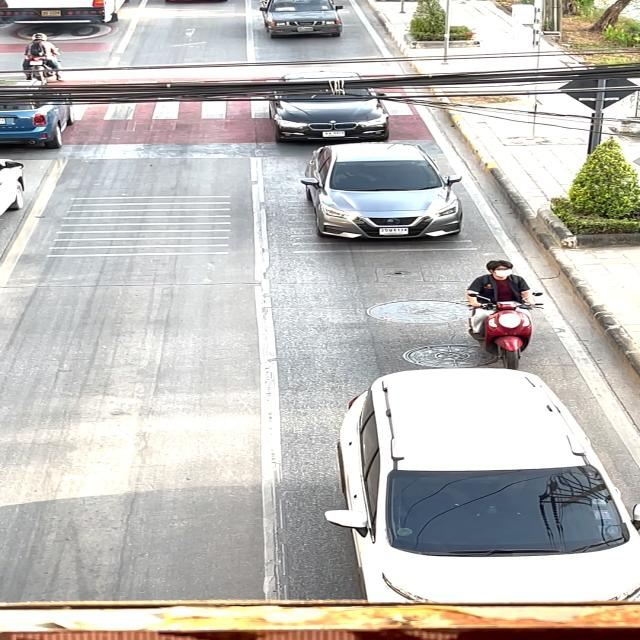car: (316, 368, 640, 602), (288, 135, 473, 266), (258, 66, 398, 144), (243, 0, 357, 46)
